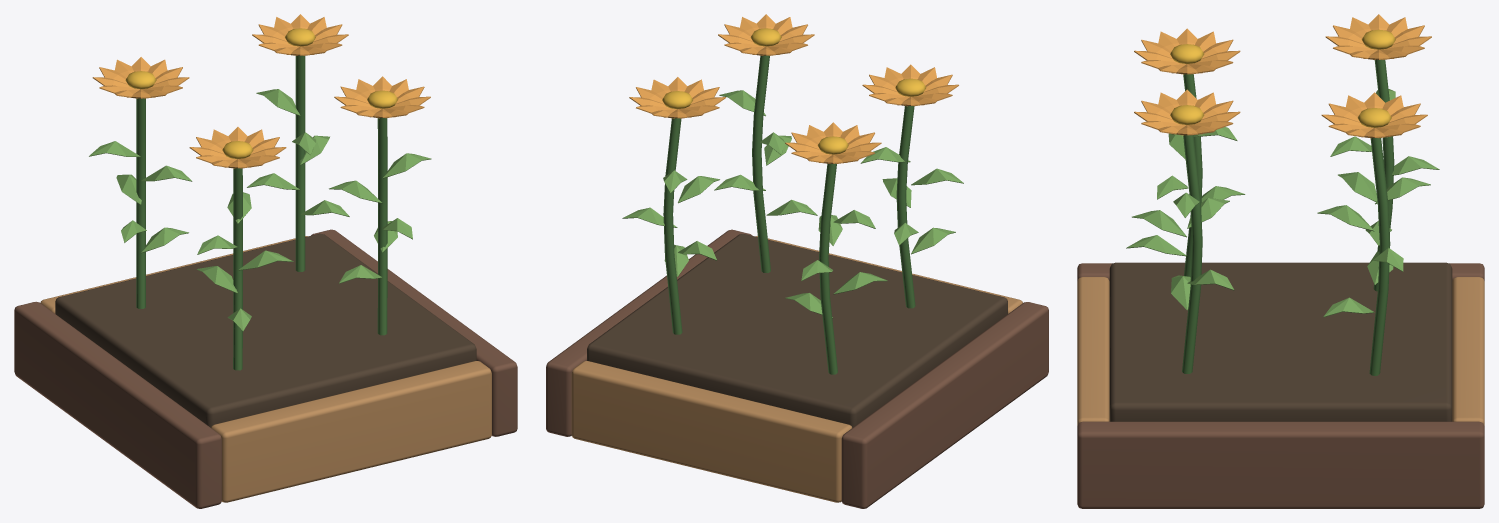
File: garden.flower.calendula-wet.glb
3 views of the same model, side by side, from view 1: azimuth 30°, elevation 25°; view 2: azimuth 150°, elevation 25°; view 3: azimuth 270°, elevation 25° (orthographic). The views are drawn at different scales.
Visible parts, largest first — view 1: Cedar raised bed rail; view 2: Cedar raised bed rail; view 3: Cedar raised bed rail.
Part boxes in pixels (x1,y1,x2,y2): Cedar raised bed rail: (14,14,517,508); Cedar raised bed rail: (546,14,1048,508); Cedar raised bed rail: (1077,14,1484,508).
Bounding box in the file's own units: 1 × 0.9658 × 1.
